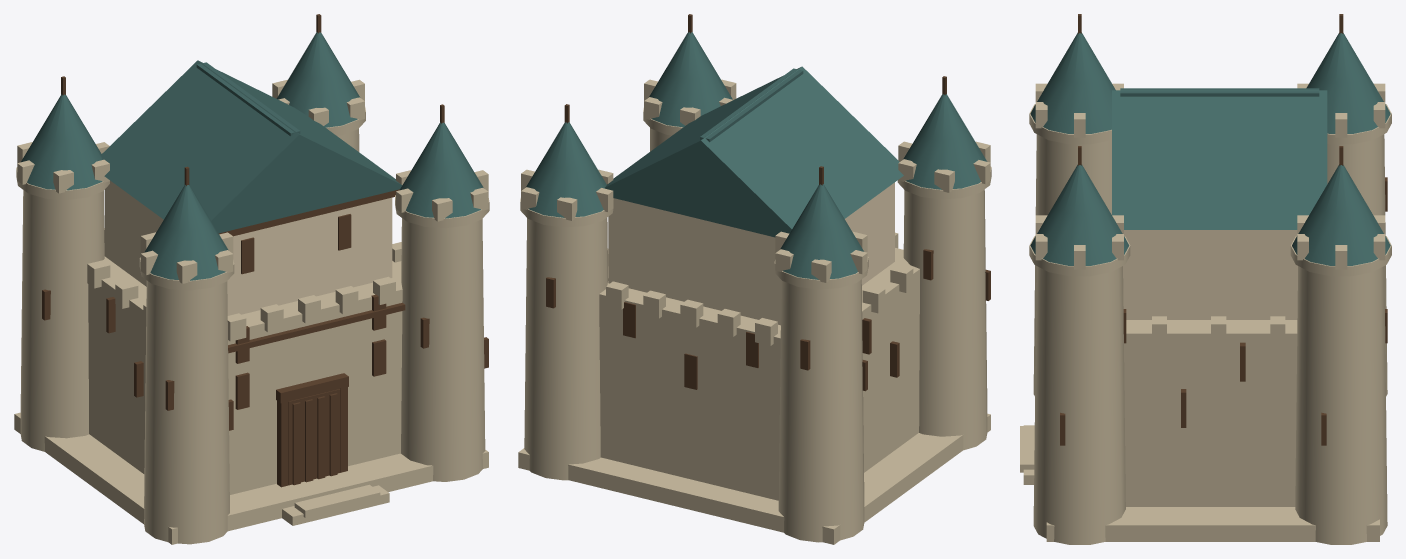
The model's file is civic_castle.gltf.
The picture shows the model from 3 angles, left to right: view 1: azimuth 30°, elevation 25°; view 2: azimuth 150°, elevation 25°; view 3: azimuth 270°, elevation 25°; orthographic projection. The views are drawn at different scales.
Parts seen in each view (by area): view 1: CivicWall_Keep, CivicRoof_Hall, CivicWall_TowerFL, CivicWall_TowerFR, CivicWall_TowerBL, CivicPlaster_Upper, CivicPlinth, CivicRoof_ConeFR, CivicRoof_ConeFL, CivicRoof_ConeBL, CivicRoof_ConeBR, CivicDoor (+15 smaller); view 2: CivicWall_Keep, CivicRoof_Hall, CivicWall_TowerBL, CivicWall_TowerBR, CivicPlaster_Upper, CivicWall_TowerFL, CivicPlinth, CivicRoof_ConeFL, CivicRoof_ConeBL, CivicRoof_ConeBR, CivicRoof_ConeFR, CivicRoof_RidgeCap (+4 smaller); view 3: CivicWall_Keep, CivicRoof_Hall, CivicWall_TowerFR, CivicWall_TowerBR, CivicPlaster_Upper, CivicPlinth, CivicRoof_ConeBR, CivicRoof_ConeFR, CivicRoof_ConeFL, CivicRoof_ConeBL, CivicWall_TowerFL, CivicWall_TowerBL (+8 smaller).
Part boxes in pixels (box(x1,y1,x2,y2)): CivicWall_Keep: box(88, 256, 402, 494); CivicRoof_Hall: box(101, 60, 402, 233); CivicWall_TowerFL: box(144, 280, 229, 544); CivicWall_TowerFR: box(401, 218, 485, 481); CivicWall_TowerBL: box(20, 190, 104, 451); CivicPlaster_Upper: box(104, 180, 392, 315); CivicPlinth: box(14, 412, 488, 544); CivicRoof_ConeFR: box(400, 122, 483, 218); CivicRoof_ConeFL: box(144, 184, 228, 280); CivicRoof_ConeBL: box(21, 94, 102, 190); CivicRoof_ConeBR: box(276, 32, 360, 127); CivicDoor: box(288, 389, 340, 485); CivicWall_Keep: box(599, 248, 919, 500); CivicRoof_Hall: box(605, 66, 903, 237); CivicWall_TowerBL: box(778, 279, 864, 542); CivicWall_TowerBR: box(524, 217, 608, 480); CivicPlaster_Upper: box(608, 182, 894, 325); CivicWall_TowerFL: box(903, 189, 987, 450); CivicPlinth: box(518, 413, 990, 544); CivicRoof_ConeFL: box(903, 94, 987, 189); CivicRoof_ConeBL: box(780, 184, 863, 279); CivicRoof_ConeBR: box(526, 122, 606, 217); CivicRoof_ConeFR: box(649, 32, 732, 127); CivicRoof_RidgeCap: box(700, 68, 803, 142); CivicWall_Keep: box(1124, 320, 1297, 506); CivicRoof_Hall: box(1112, 90, 1327, 229); CivicWall_TowerFR: box(1033, 266, 1125, 544); CivicWall_TowerBR: box(1295, 266, 1387, 544); CivicPlaster_Upper: box(1123, 230, 1297, 319); CivicPlinth: box(1046, 507, 1379, 541); CivicRoof_ConeBR: box(1292, 164, 1390, 265); CivicRoof_ConeFR: box(1030, 164, 1129, 265); CivicRoof_ConeFL: box(1030, 32, 1115, 133); CivicRoof_ConeBL: box(1306, 33, 1390, 133); CivicWall_TowerFL: box(1033, 134, 1111, 395); CivicWall_TowerBL: box(1327, 134, 1387, 396).
Size of the model in its own units: 7.78 by 7.78 by 6.91.
